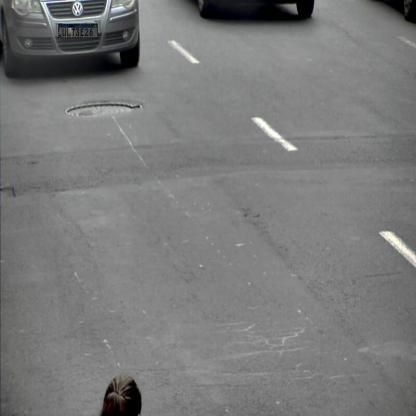PlacaM: (58, 24, 98, 38)
